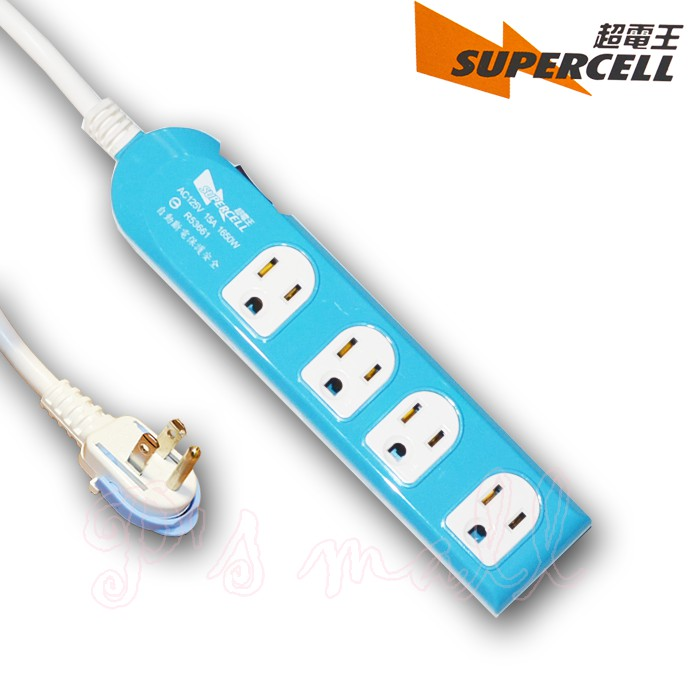socket: (78, 96, 592, 620)
